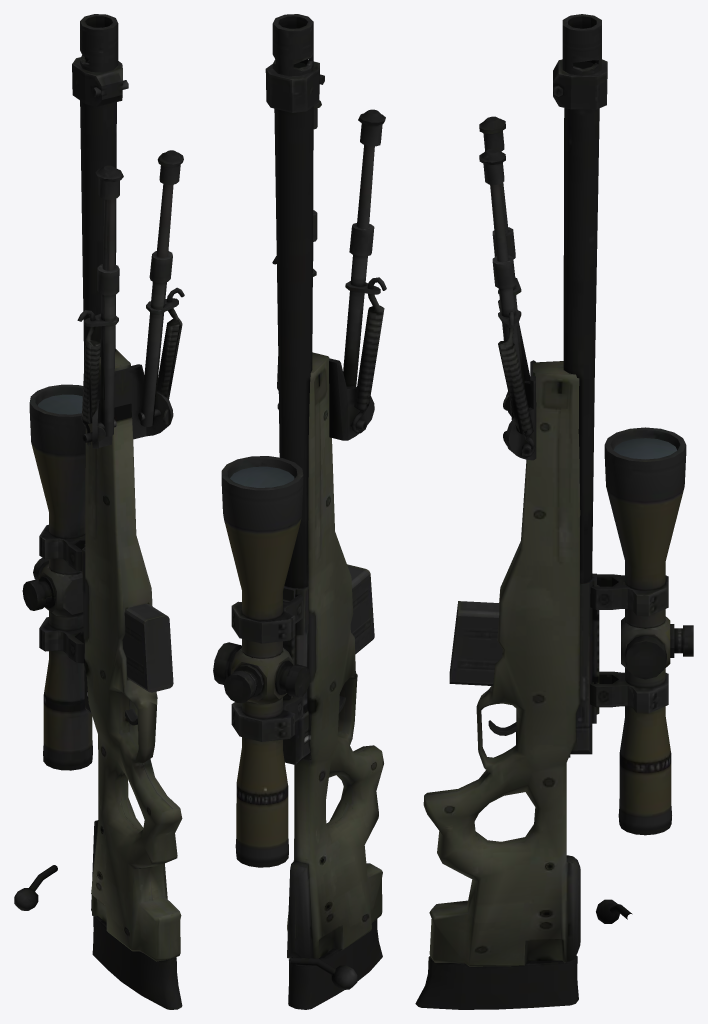
The picture shows the model from 3 angles, left to right: view 1: azimuth 30°, elevation 25°; view 2: azimuth 150°, elevation 25°; view 3: azimuth 270°, elevation 25°; orthographic projection. The views are drawn at different scales.
Parts seen in each view (by area): view 1: body0_model0_lod0_mesh0, body0_model0_lod0_mesh1; view 2: body0_model0_lod0_mesh0, body0_model0_lod0_mesh1; view 3: body0_model0_lod0_mesh0, body0_model0_lod0_mesh1.
Boxes of the visible parts, box(x1,y1,x2,y2) form: body0_model0_lod0_mesh0: box(14, 14, 184, 1009); body0_model0_lod0_mesh1: box(38, 394, 82, 414); body0_model0_lod0_mesh0: box(213, 14, 386, 1009); body0_model0_lod0_mesh1: box(230, 466, 294, 487); body0_model0_lod0_mesh0: box(415, 14, 693, 1009); body0_model0_lod0_mesh1: box(613, 438, 677, 459).
Bounding box in the file's own units: 8.95 × 64.68 × 16.62.
2 materials, 2 textured.
